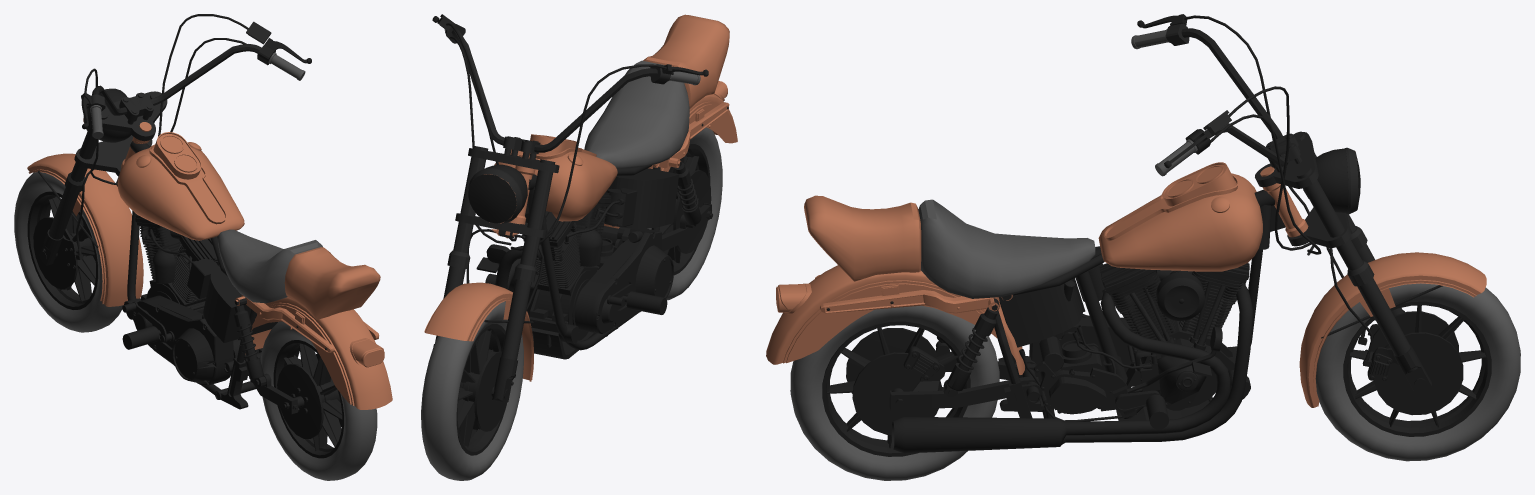
Rendered from motor03.gltf.
3 renders of one model, left to right at view 1: azimuth 30°, elevation 25°; view 2: azimuth 150°, elevation 25°; view 3: azimuth 270°, elevation 25°, orthographic. The views are drawn at different scales.
Visible parts, largest first — view 1: 摩托车03; view 2: 摩托车03; view 3: 摩托车03.
Part boxes in pixels (x1,y1,x2,y2): 摩托车03: (14,14,392,480); 摩托车03: (421,14,737,480); 摩托车03: (766,14,1520,480).
Size of the model in its own units: 1.07 by 1.44 by 2.38.
